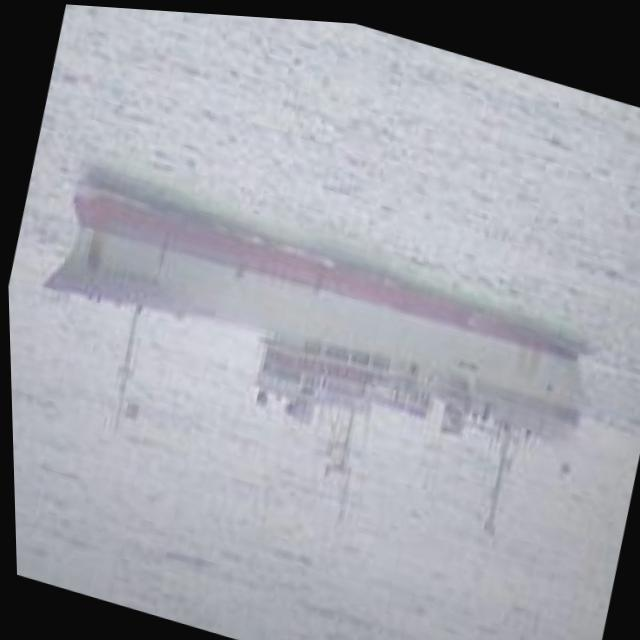ship2: (40, 179, 593, 537)
